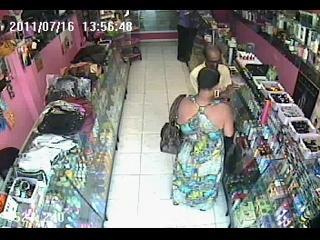Normal: (168, 68, 236, 212), (188, 44, 234, 100), (176, 11, 202, 66), (160, 118, 183, 155), (121, 46, 142, 66)
